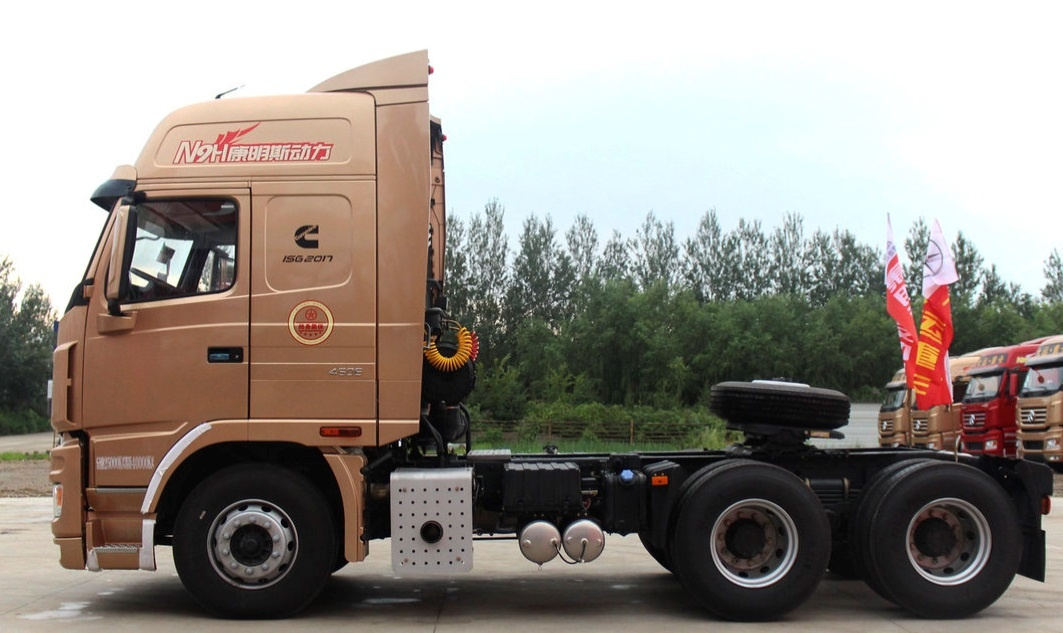heavy truck: (36, 71, 1050, 613)
